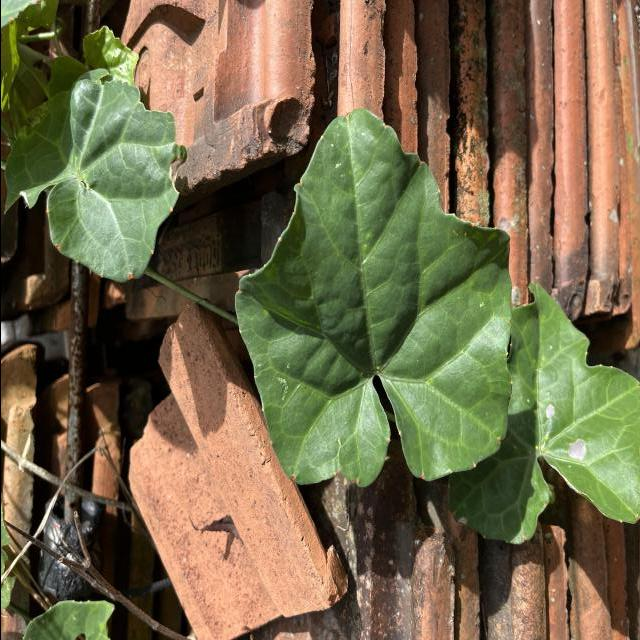Coccinia grandis: (230, 106, 514, 490)
